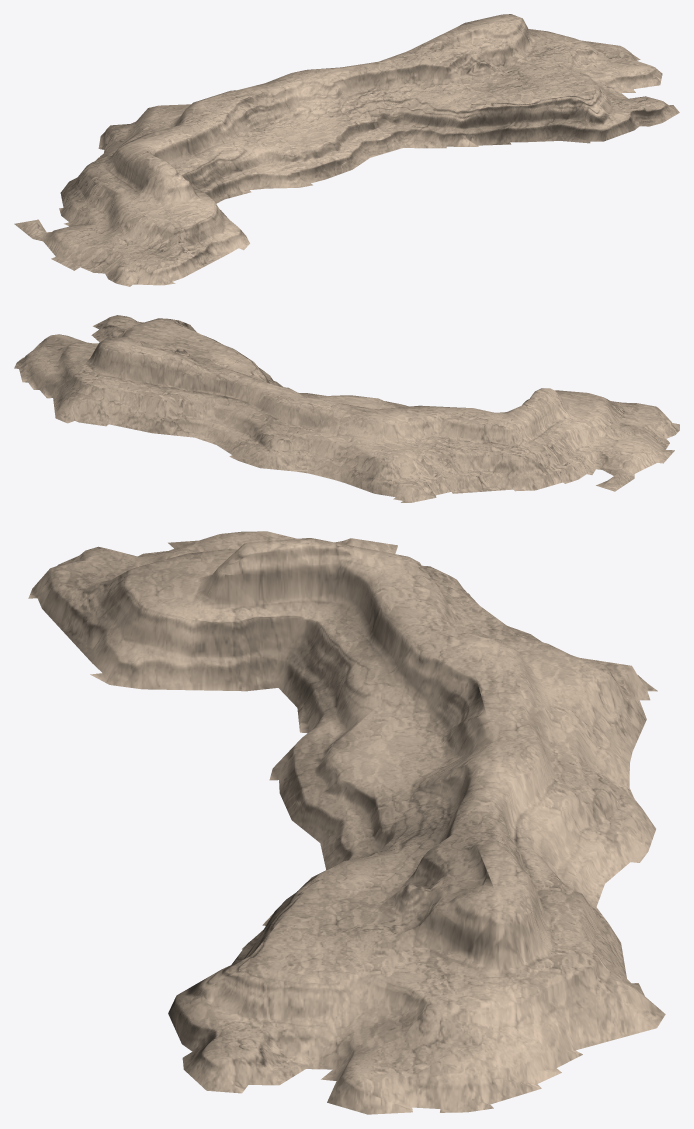
Rendered from Mountain_03.gltf.
3 views of the same model, one above another, from view 1: azimuth 30°, elevation 25°; view 2: azimuth 150°, elevation 25°; view 3: azimuth 270°, elevation 25° (orthographic). The views are drawn at different scales.
Visible parts, largest first — view 1: Mountain_03(Clone); view 2: Mountain_03(Clone); view 3: Mountain_03(Clone).
Boxes of the visible parts, x1=… form: Mountain_03(Clone): x1=14, y1=14, x2=679, y2=286; Mountain_03(Clone): x1=14, y1=315, x2=679, y2=502; Mountain_03(Clone): x1=28, y1=531, x2=665, y2=1114.
Bounding box in the file's own units: 119 × 10.31 × 55.73.
1 material, 1 textured.
